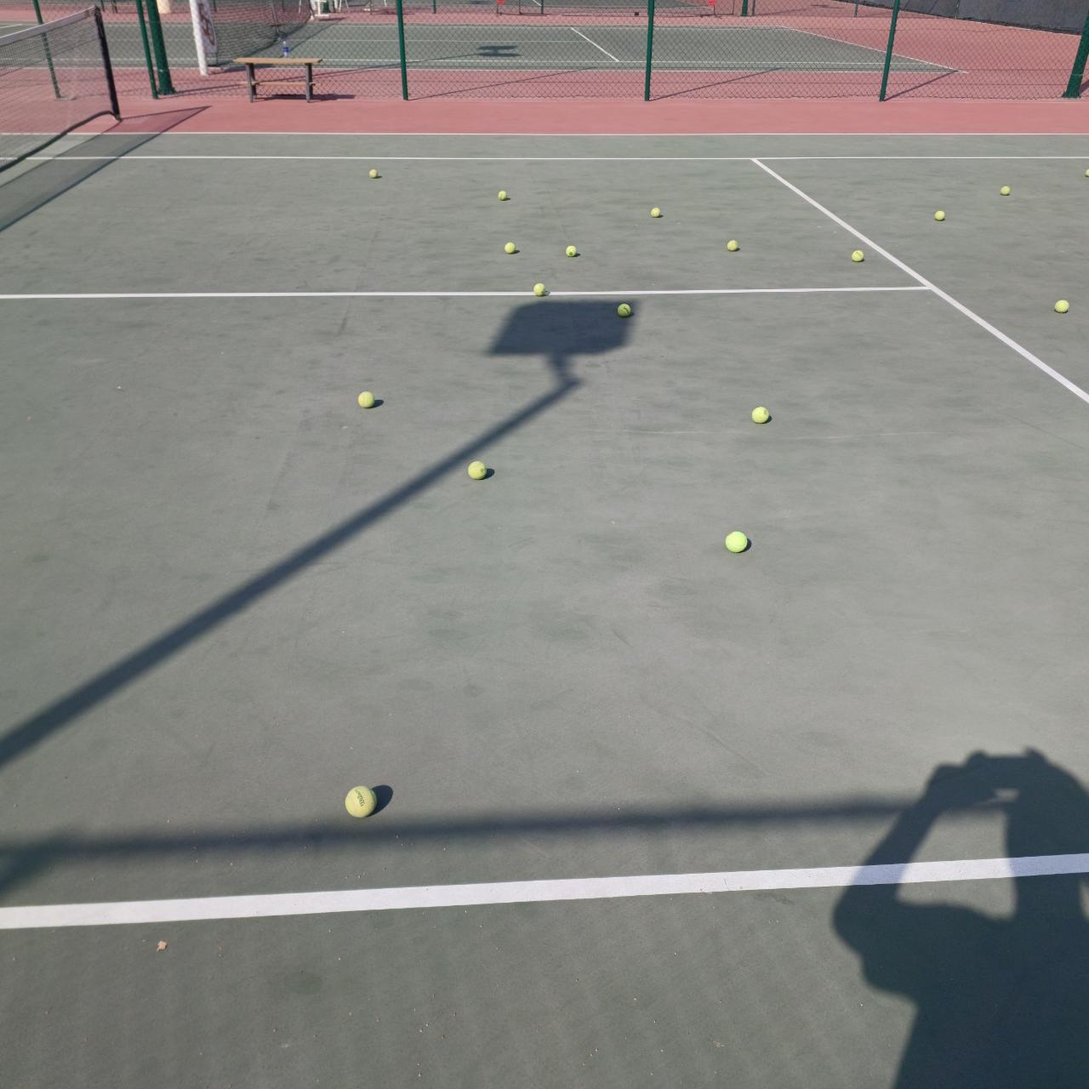tennis-ball: (343, 783, 377, 818), (723, 528, 749, 553), (466, 459, 487, 479), (750, 404, 770, 424), (356, 389, 374, 408), (1052, 297, 1069, 313), (616, 301, 631, 316), (849, 248, 864, 262), (563, 243, 578, 257), (502, 240, 516, 254), (725, 237, 738, 251), (533, 282, 546, 296), (932, 208, 945, 220), (649, 205, 662, 217), (367, 167, 379, 179), (496, 189, 509, 200), (998, 184, 1010, 195)
